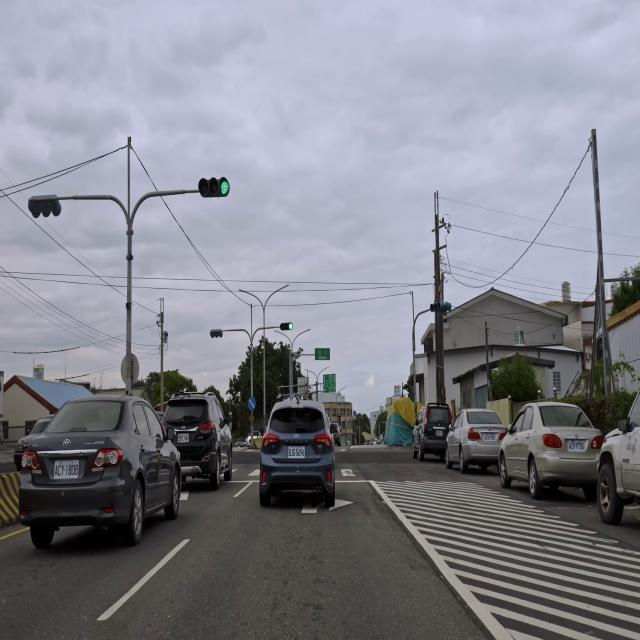green light: (197, 177, 230, 199), (280, 322, 293, 331)
